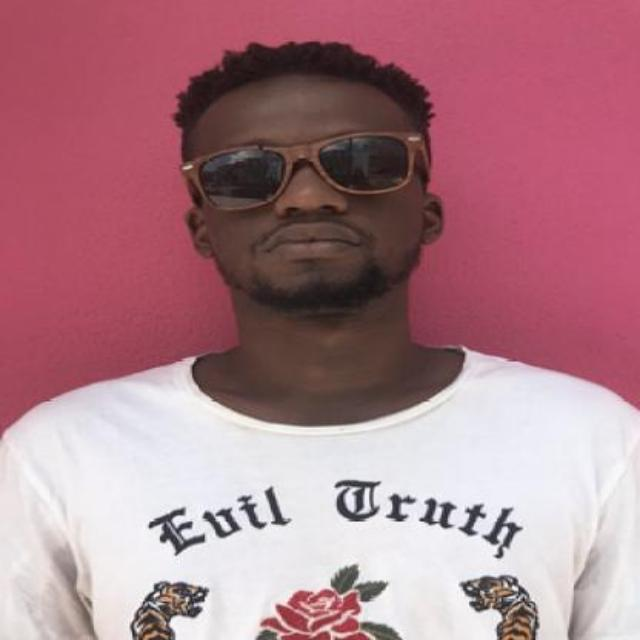glasses: (177, 127, 435, 210)
